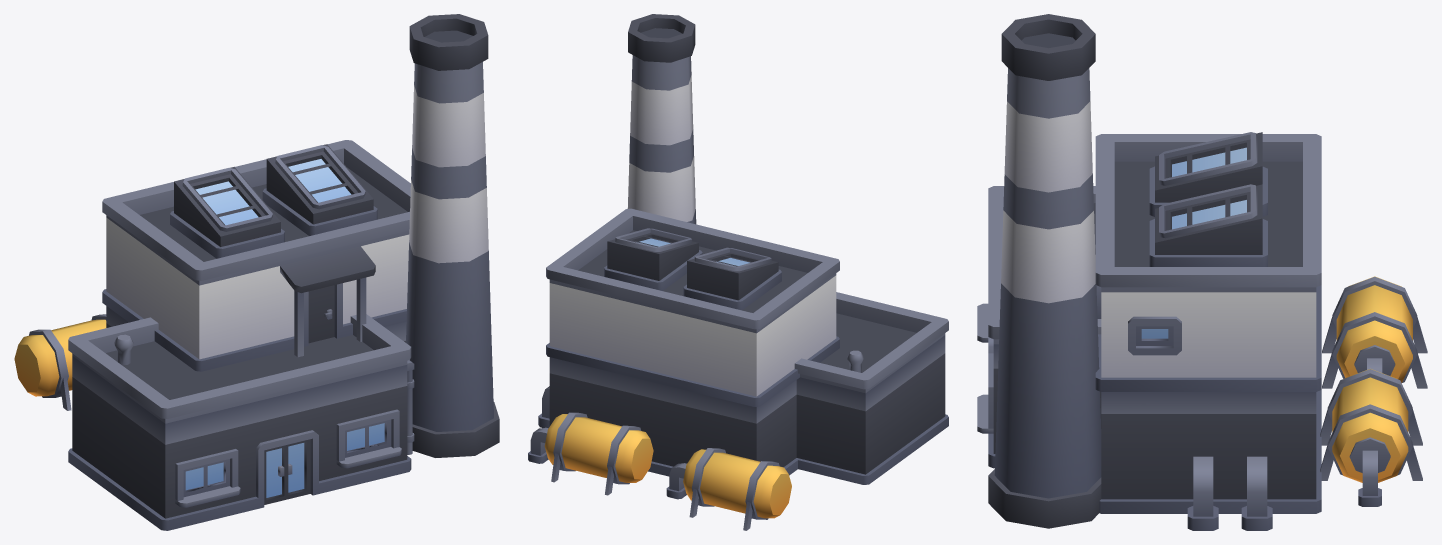
The model's file is chemistry_level2.glb.
3 views of the same model, side by side, from view 1: azimuth 30°, elevation 25°; view 2: azimuth 150°, elevation 25°; view 3: azimuth 270°, elevation 25° (orthographic). The views are drawn at different scales.
Parts seen in each view (by area): view 1: building-f; view 2: building-f; view 3: building-f.
Part boxes in pixels (x1=…): building-f: x1=14, y1=14, x2=499, y2=530; building-f: x1=528, y1=14, x2=948, y2=530; building-f: x1=977, y1=14, x2=1427, y2=530.
Bounding box in the file's own units: 1.11 × 1.19 × 1.03.
2 materials, 2 textured.
